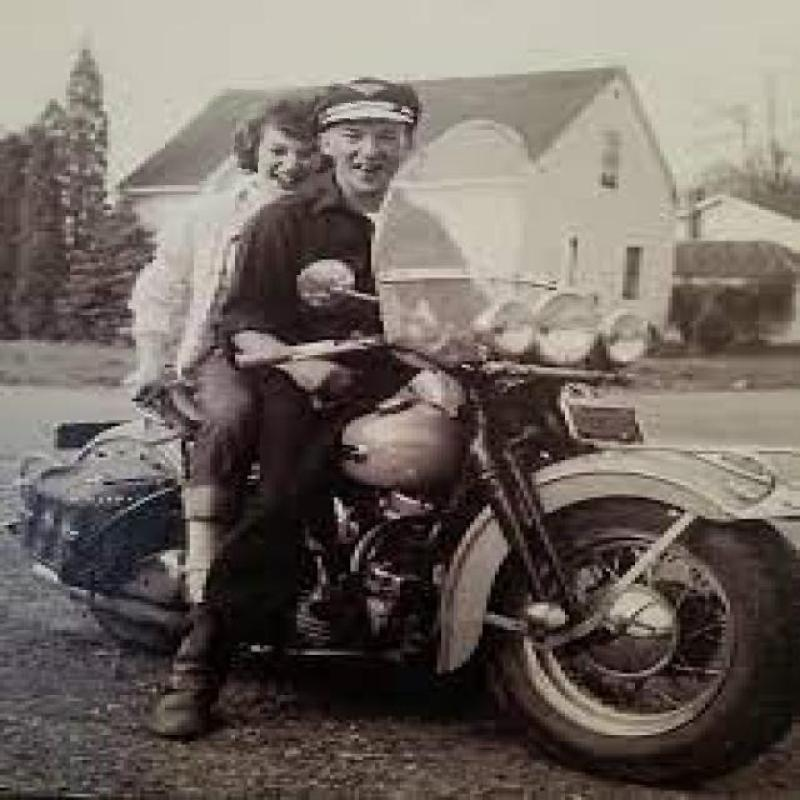nohelmet: (311, 87, 445, 188), (201, 89, 314, 190)
